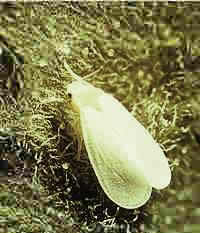whitefly: (49, 59, 171, 210)
